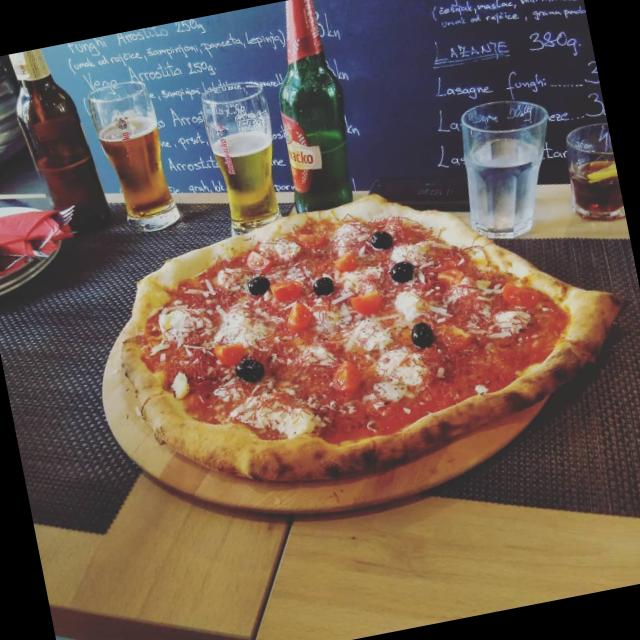black_olives: (404, 318, 438, 354), (232, 353, 269, 386), (386, 258, 419, 288), (364, 227, 398, 255), (244, 274, 276, 302), (310, 273, 334, 298)
pizza: (120, 195, 618, 481)
